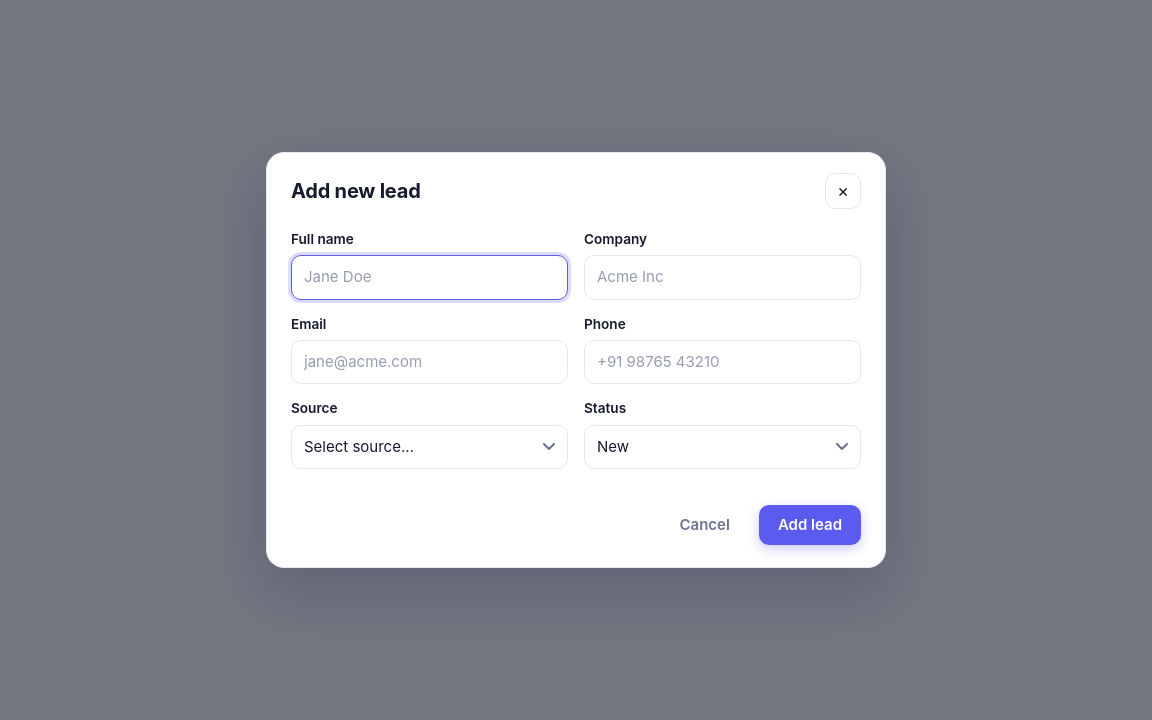
Test: LeadFormModal (add) › shows inline errors and does not submit when fields are empty
Step 1. Click the button "Add lead" → (810, 525), box [759,505,861,545]
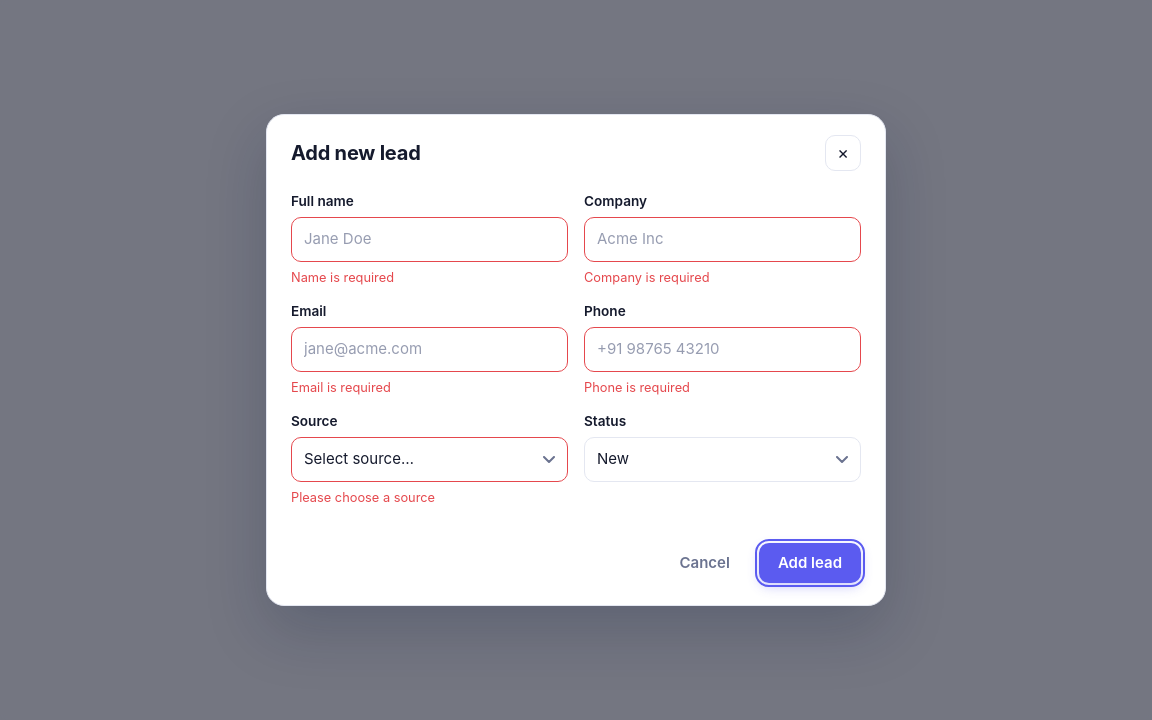
Result: the text "Name is required" is shown at [291,270,394,285]
Result: the text "Email is required" is shown at [291,380,391,395]
Result: the text "Phone is required" is shown at [584,380,690,395]
